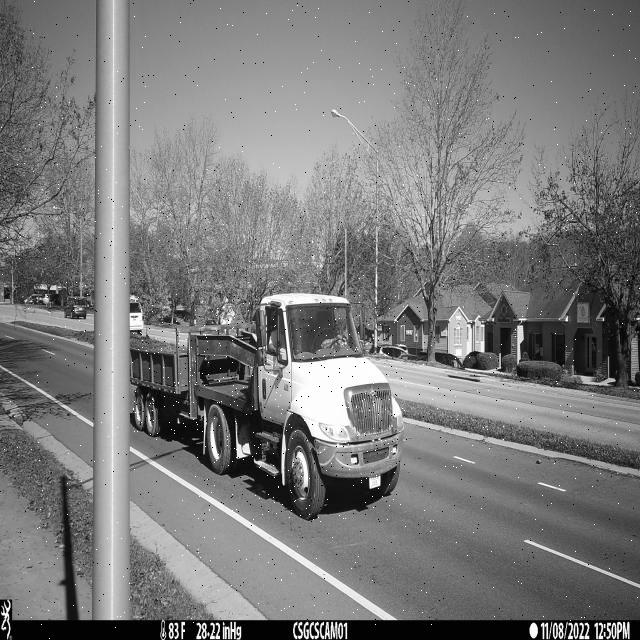Box Truck: (194, 294, 406, 522), (129, 324, 255, 437)
